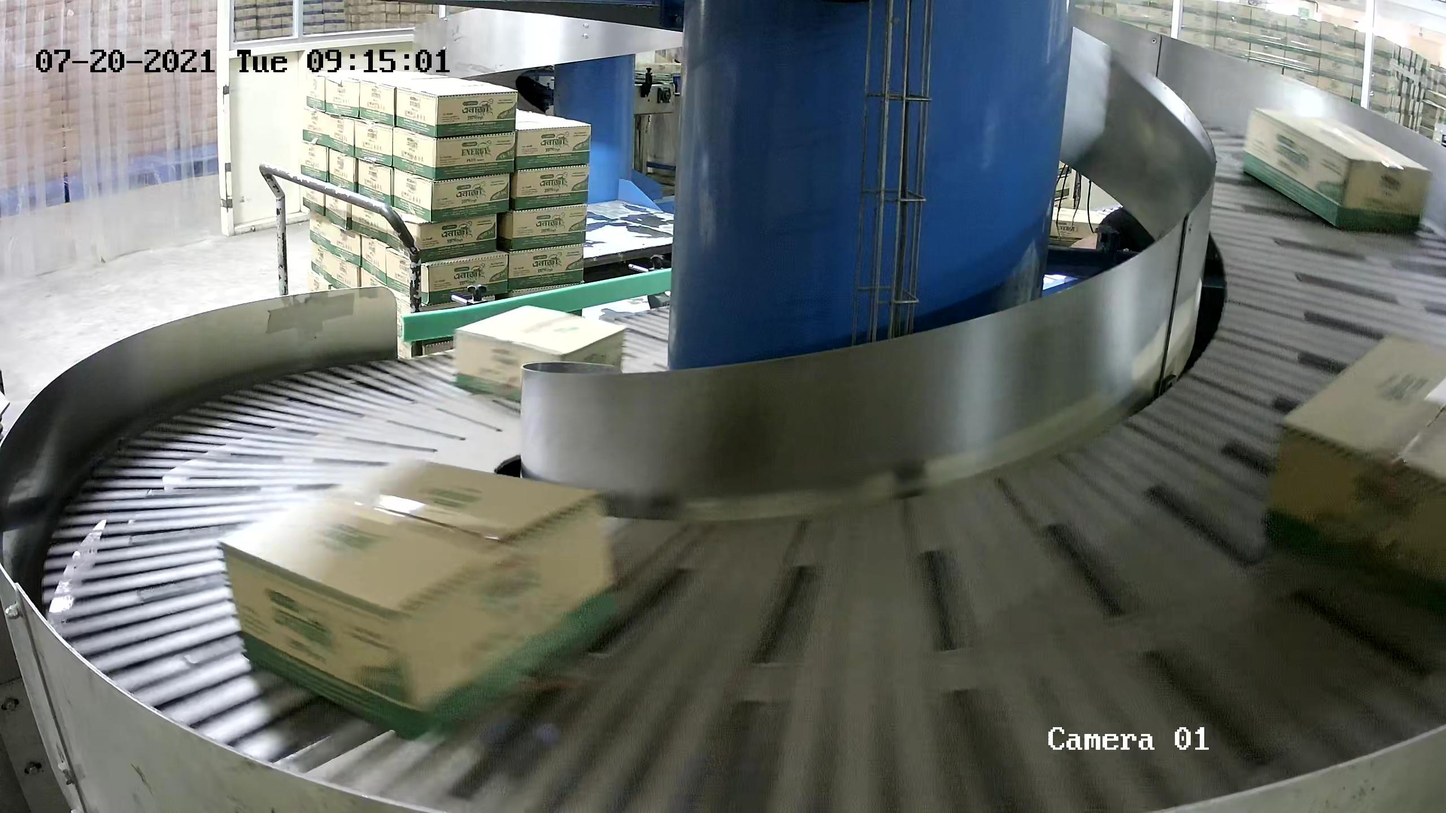Box: (215, 456, 620, 740), (1262, 332, 1446, 620), (1241, 105, 1435, 232), (452, 303, 627, 403)
